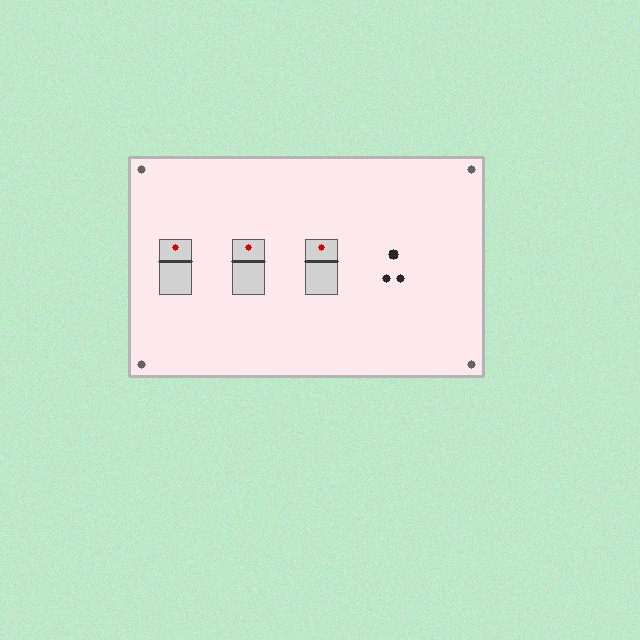switchboard: (129, 157, 483, 376)
